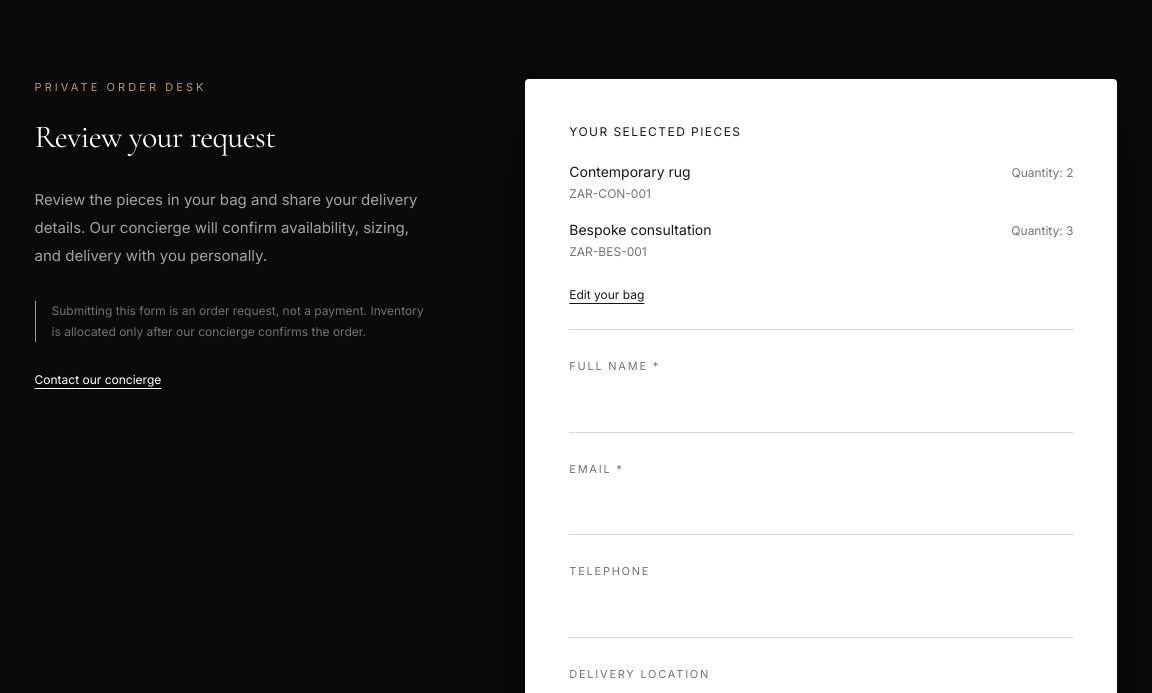
it: bag order requests › submits a guest bag with the guest's own contact details
This screenshot has width=1152, height=693.
Type "Guest Customer" into the field labelled "Full name *" at (821, 409), box [569, 385, 1074, 433]
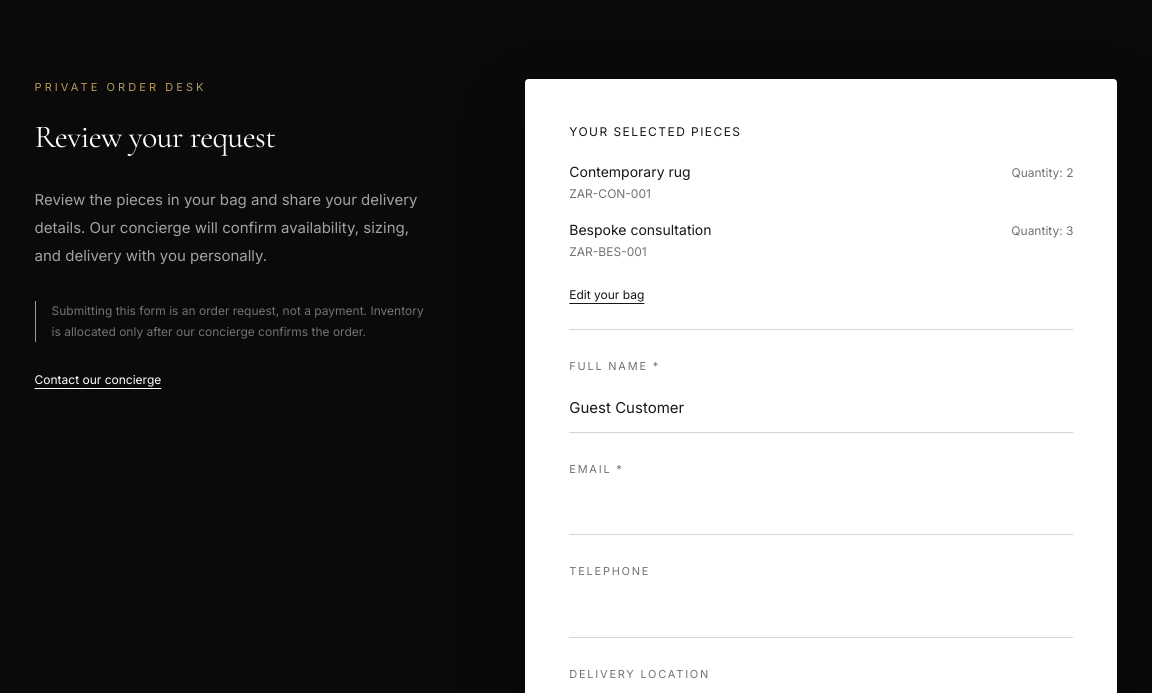
Type "guest@example.com" into the field labelled "Email *" at (821, 511), box [569, 487, 1074, 535]
(page scrolled)
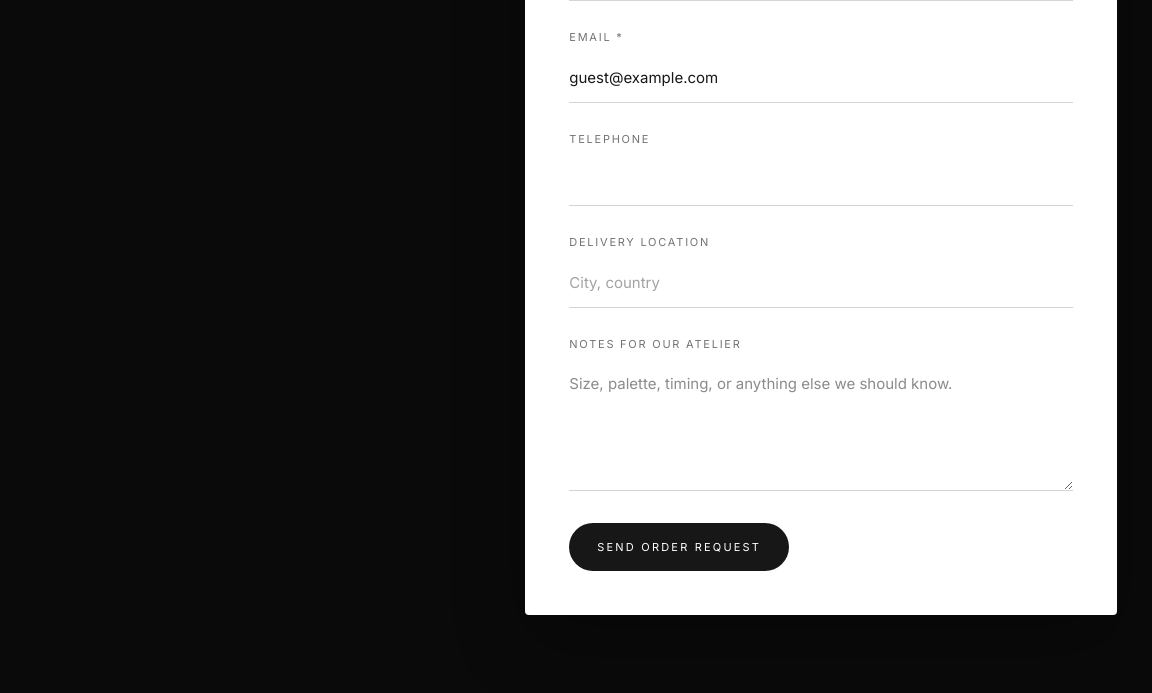
Click the button "Send order request" at (679, 547), box [569, 523, 789, 571]
(page scrolled)
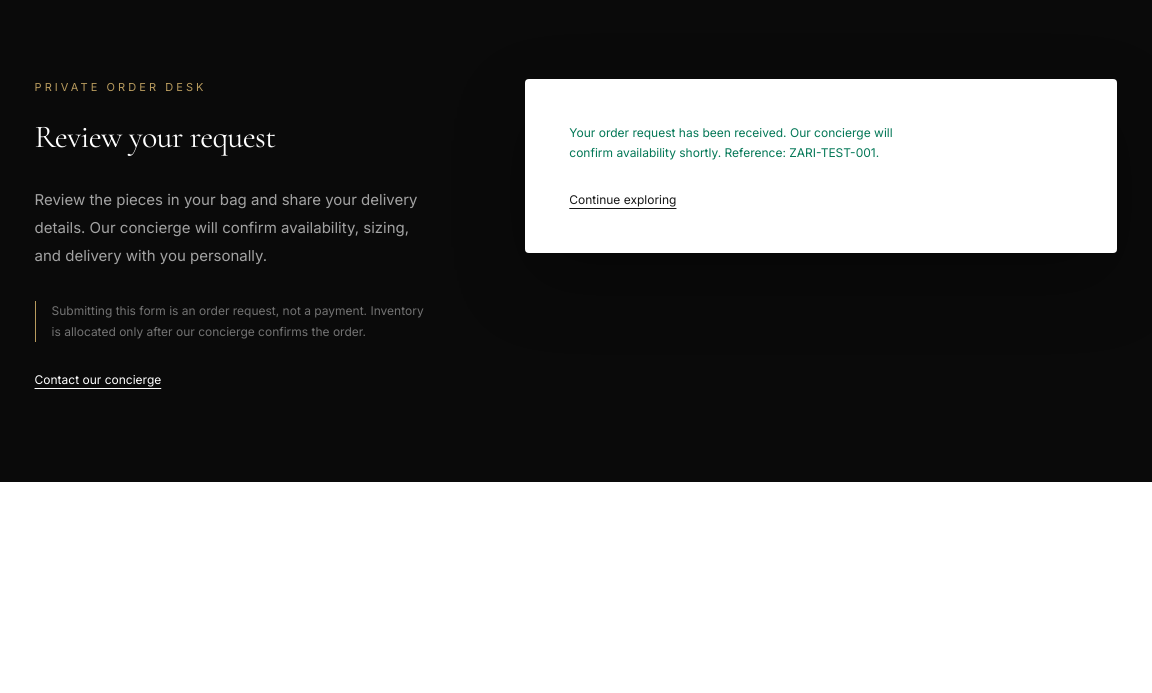
Expected: the text "Reference: ZARI-TEST-001" is shown, [569, 125, 893, 160]
